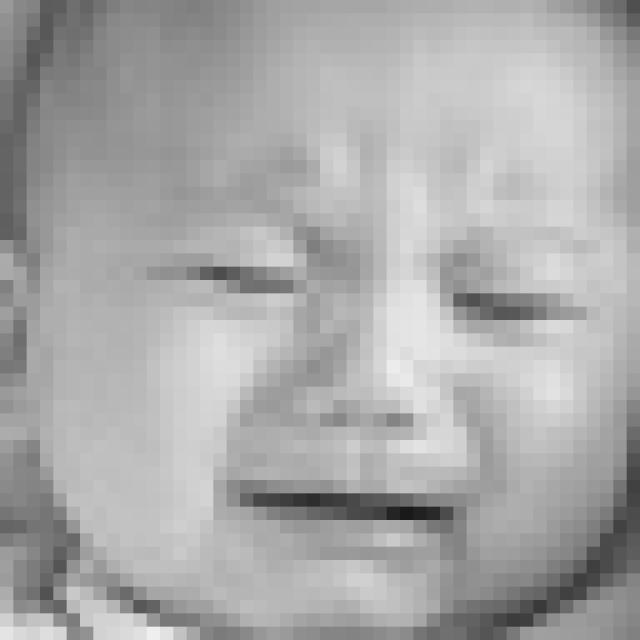sad: (137, 204, 615, 578)
